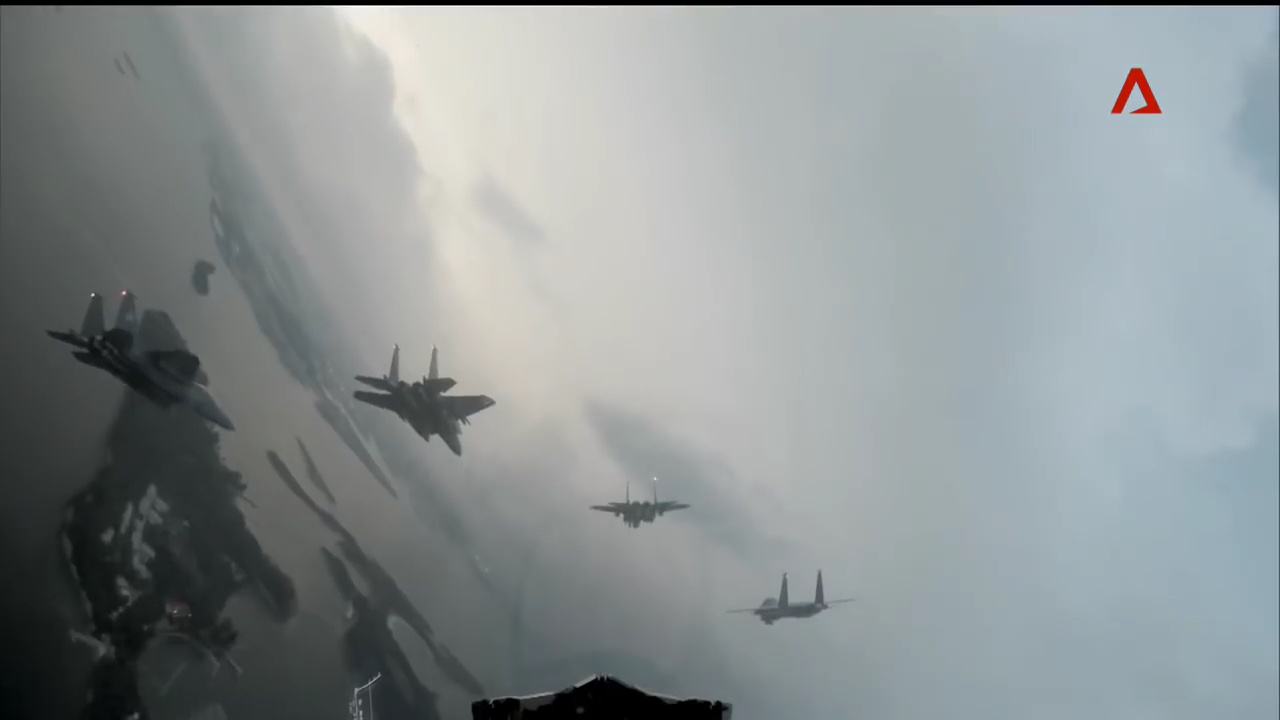f15: (44, 290, 239, 436), (351, 342, 499, 459), (723, 566, 859, 629), (588, 474, 693, 532)
